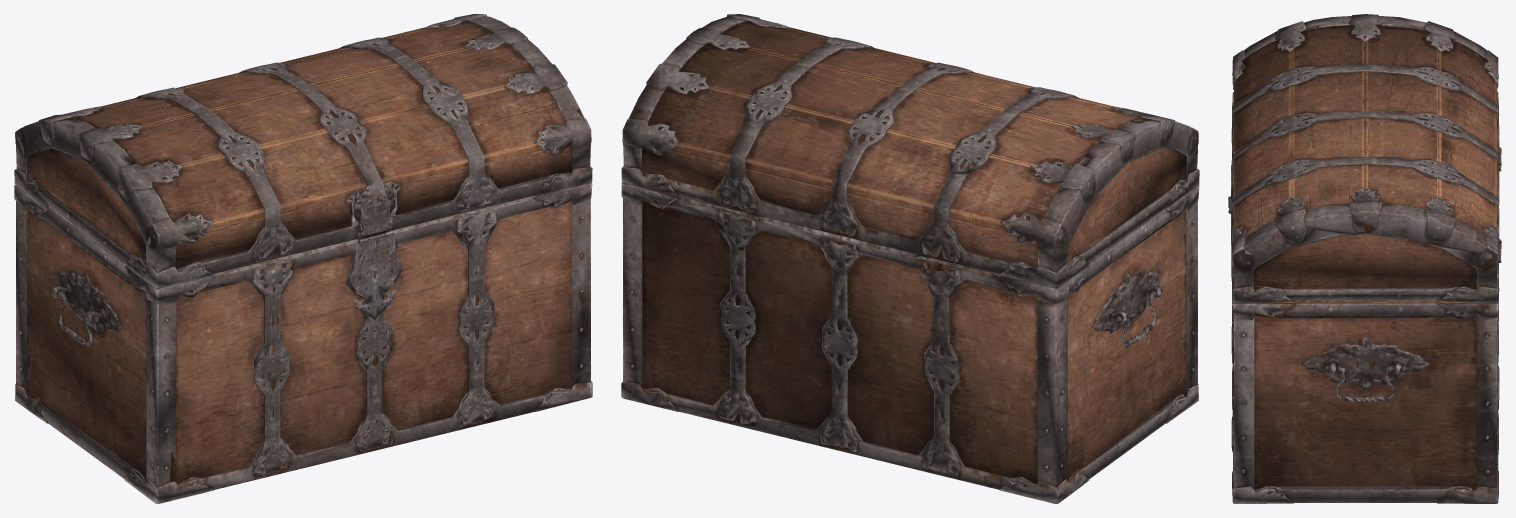
Rendered from treasure_chest.glb.
The picture shows the model from 3 angles, left to right: view 1: azimuth 30°, elevation 25°; view 2: azimuth 150°, elevation 25°; view 3: azimuth 270°, elevation 25°; orthographic projection. The views are drawn at different scales.
Parts seen in each view (by area): view 1: treasure_chest_bottom; view 2: treasure_chest_bottom; view 3: treasure_chest_bottom.
Boxes of the visible parts, left/top/right/bottom form: treasure_chest_bottom: left=14, top=14, right=592, bottom=503; treasure_chest_bottom: left=621, top=14, right=1199, bottom=503; treasure_chest_bottom: left=1228, top=14, right=1501, bottom=503.
Size of the model in its own units: 0.959 by 0.6177 by 0.5223.
Materials: 1 (1 with a texture image).
